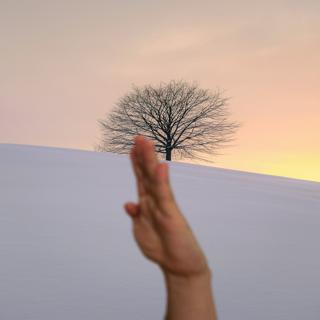RIGHT: (114, 132, 209, 278)
